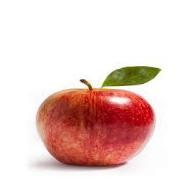apple: (36, 86, 154, 172)
